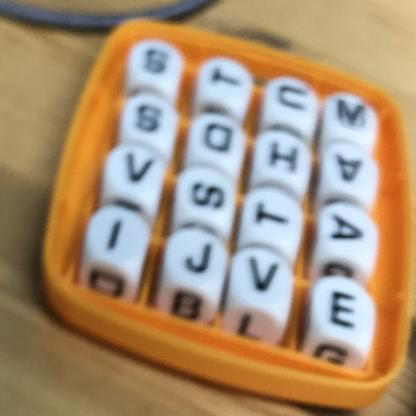a: (323, 148, 380, 199), (319, 205, 375, 256)
d: (192, 114, 242, 167)
e: (312, 283, 372, 346)
h: (259, 133, 308, 188)
i: (92, 208, 143, 273)
j: (172, 230, 232, 289)
m: (325, 92, 384, 145)
s: (184, 169, 232, 226), (132, 93, 175, 144), (134, 36, 177, 85)
t: (243, 189, 300, 250), (201, 52, 249, 108)
u: (270, 76, 313, 128)
v: (236, 247, 290, 311), (109, 143, 160, 200)
